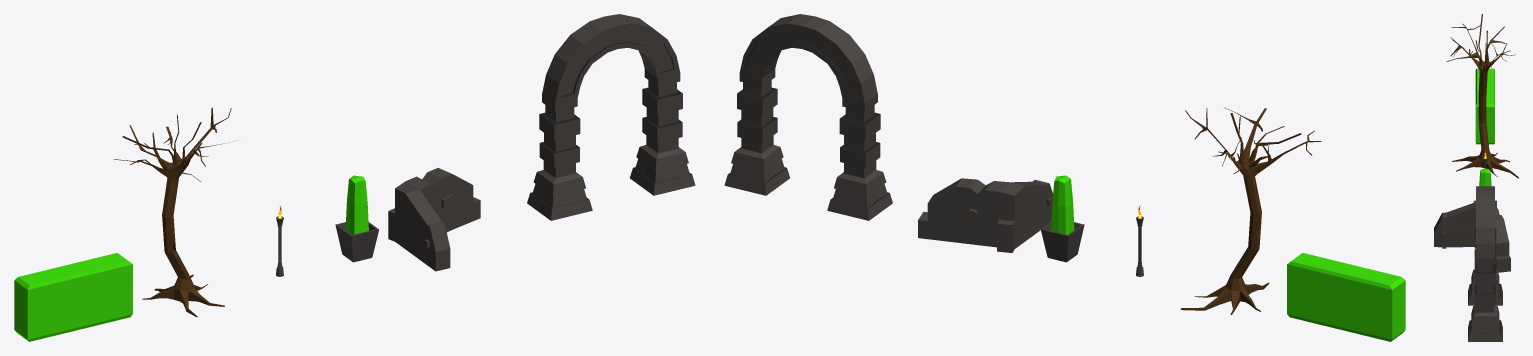
The model's file is Stone_assets.fbx.
3 renders of one model, left to right at view 1: azimuth 30°, elevation 25°; view 2: azimuth 150°, elevation 25°; view 3: azimuth 270°, elevation 25°, orthographic. The views are drawn at different scales.
Visible parts, largest first — view 1: Stone_Arch1, Stone_Hecke, Stone_Wall1, Stone_DeadTree, Stone_Topfpflanze; view 2: Stone_Arch1, Stone_Hecke, Stone_Wall1, Stone_DeadTree, Stone_Topfpflanze; view 3: Stone_Arch1, Stone_Wall1, Stone_DeadTree, Stone_Hecke, Stone_Topfpflanze.
Part boxes in pixels (x1,y1,x2,y2): Stone_Arch1: [527, 14, 695, 220]; Stone_Hecke: [14, 253, 132, 341]; Stone_Wall1: [388, 168, 480, 271]; Stone_DeadTree: [113, 107, 237, 317]; Stone_Topfpflanze: [335, 175, 378, 262]; Stone_Arch1: [724, 14, 892, 220]; Stone_Hecke: [1287, 253, 1405, 341]; Stone_Wall1: [918, 178, 1052, 252]; Stone_DeadTree: [1180, 107, 1321, 314]; Stone_Topfpflanze: [1041, 175, 1084, 262]; Stone_Arch1: [1468, 186, 1502, 341]; Stone_Wall1: [1434, 202, 1510, 272]; Stone_DeadTree: [1446, 14, 1518, 178]; Stone_Hecke: [1475, 68, 1494, 144]; Stone_Topfpflanze: [1473, 168, 1496, 206].
Size of the model in its own units: 2477 by 668 by 381.
